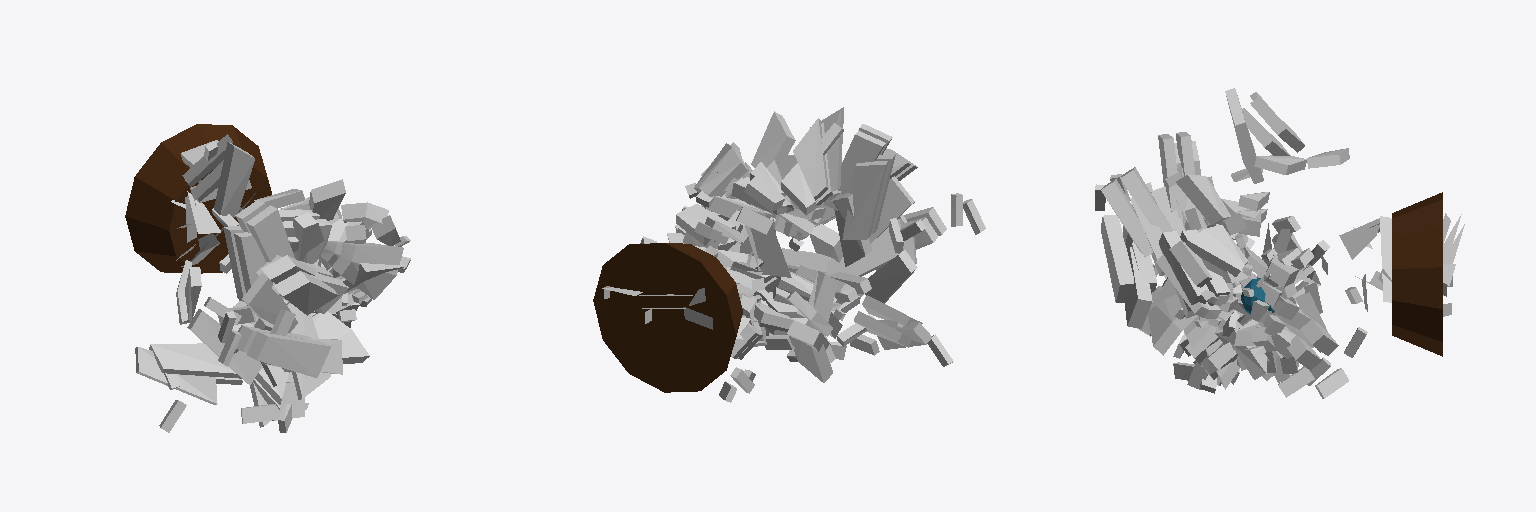
3 views of the same model, side by side, from view 1: azimuth 30°, elevation 25°; view 2: azimuth 150°, elevation 25°; view 3: azimuth 270°, elevation 25° (orthographic).
Parts seen in each view (by area): view 1: Cone.001_Cone.001_cover, Cone_Cone_cover, Cylinder_Cylinder_Material.001, Plane_Plane_Material.003; view 2: Cone.001_Cone.001_cover, Cylinder_Cylinder_Material.001, Cone_Cone_cover, Plane_Plane_Material.003; view 3: Cone_Cone_cover, Cone.001_Cone.001_cover, Cylinder_Cylinder_Material.001, Plane_Plane_Material.003.
Boxes of the visible parts, box(x1,y1,x2,y2) form: Cone.001_Cone.001_cover: box(135, 134, 410, 432); Cone_Cone_cover: box(217, 179, 410, 432); Cylinder_Cylinder_Material.001: box(125, 124, 271, 273); Plane_Plane_Material.003: box(171, 180, 255, 266); Cone.001_Cone.001_cover: box(685, 107, 985, 393); Cylinder_Cylinder_Material.001: box(593, 243, 742, 392); Cone_Cone_cover: box(640, 111, 946, 402); Plane_Plane_Material.003: box(602, 216, 791, 339); Cone_Cone_cover: box(1101, 166, 1362, 398); Cone.001_Cone.001_cover: box(1095, 88, 1367, 385); Cylinder_Cylinder_Material.001: box(1392, 192, 1442, 356); Plane_Plane_Material.003: box(1262, 213, 1464, 316).
Bounding box in the file's own units: 2.19 × 2.13 × 2.5.
4 materials, 1 textured.